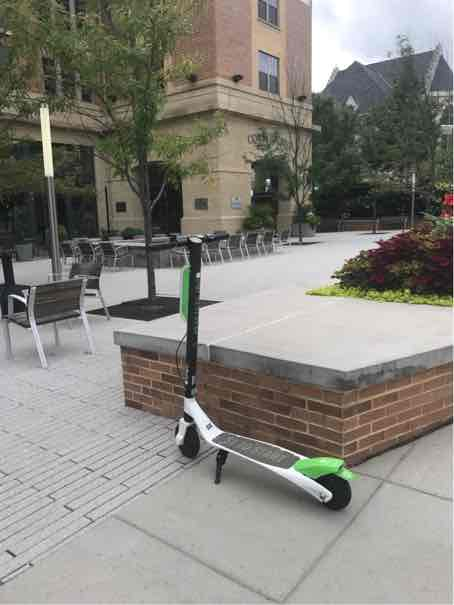scooter: (137, 217, 362, 517)
